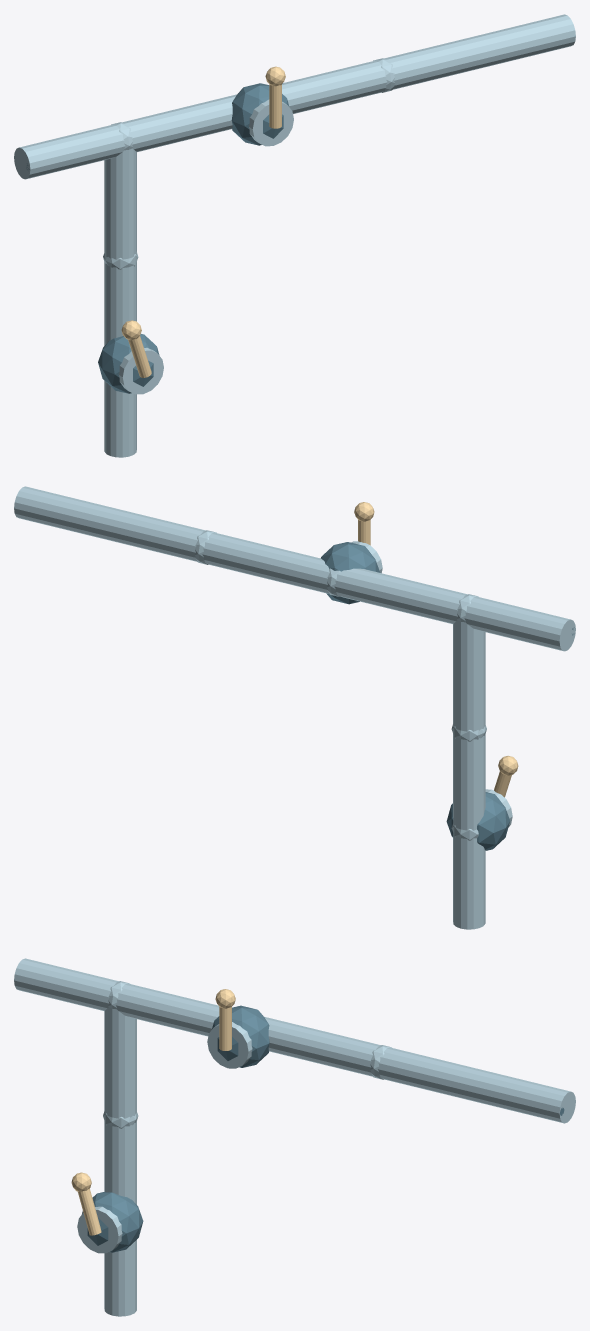
Rendered from water-00-0.glb.
3 renders of one model, top to bottom at view 1: azimuth 30°, elevation 25°; view 2: azimuth 150°, elevation 25°; view 3: azimuth 330°, elevation 25°, orthographic.
Parts seen in each view (by area): view 1: pipe, dark, handle; view 2: pipe, dark, handle; view 3: pipe, dark, handle.
Part boxes in pixels (left/top/right/bottom): pipe: left=14, top=14, right=575, bottom=457; dark: left=26, top=83, right=289, bottom=393; handle: left=121, top=66, right=285, bottom=377; pipe: left=14, top=486, right=575, bottom=929; dark: left=321, top=542, right=574, bottom=850; handle: left=354, top=502, right=518, bottom=797; pipe: left=14, top=958, right=575, bottom=1316; dark: left=82, top=1005, right=564, bottom=1252; handle: left=71, top=989, right=235, bottom=1235.
Size of the model in its own units: 2.77 by 1.79 by 0.343.
